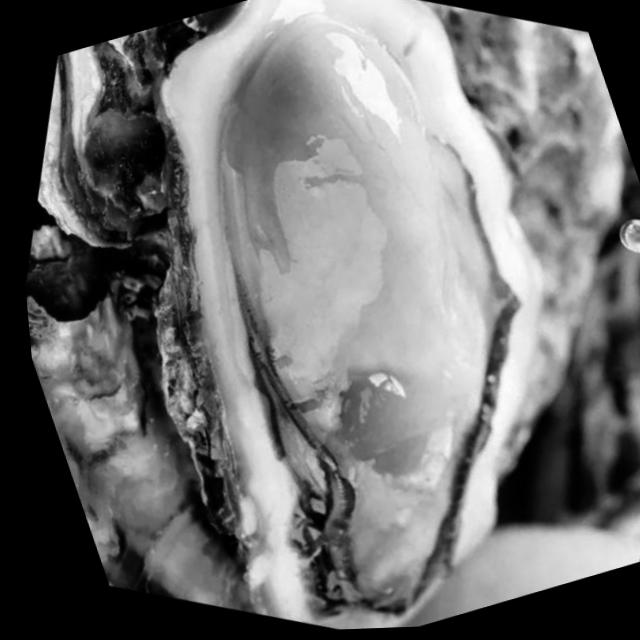Oyster-Open: (43, 0, 640, 638)
